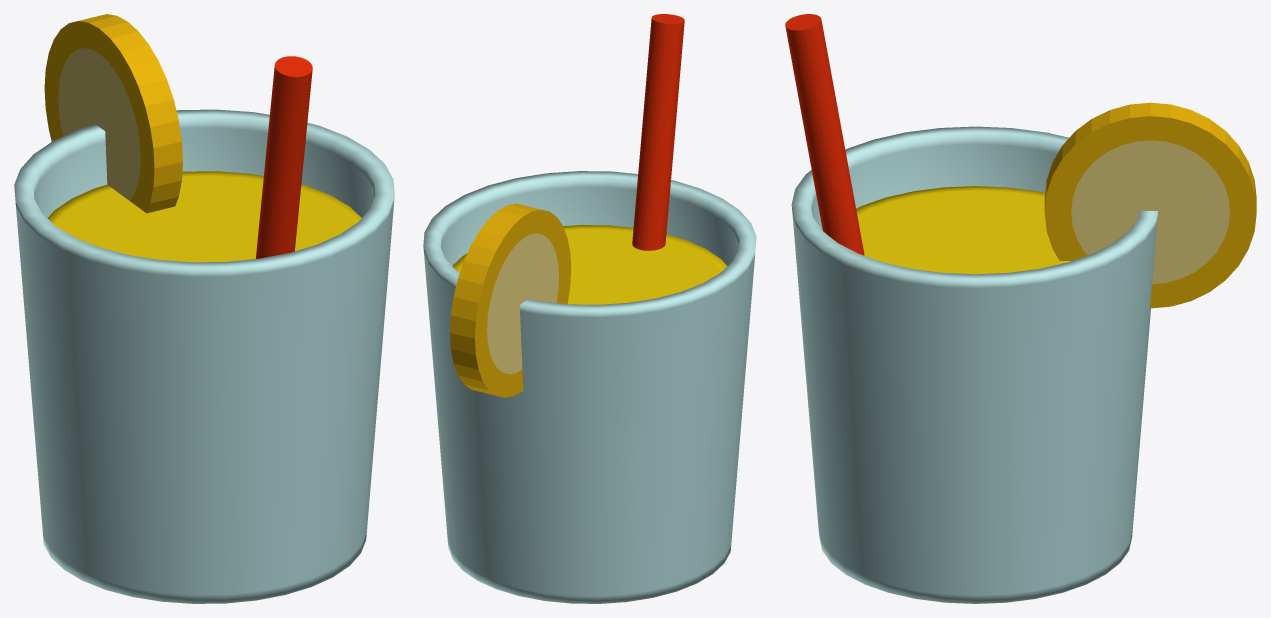
File: LemonadeGlass.fbx
3 views of the same model, side by side, from view 1: azimuth 30°, elevation 25°; view 2: azimuth 150°, elevation 25°; view 3: azimuth 270°, elevation 25° (orthographic). The views are drawn at different scales.
Parts seen in each view (by area): view 1: Glass, LemonSlice, Liquid, Straw; view 2: Glass, LemonSlice, Liquid, Straw; view 3: Glass, LemonSlice, Liquid, Straw.
Part boxes in pixels (bbox=[...]): Glass: bbox=[14, 109, 394, 603]; LemonSlice: bbox=[44, 14, 182, 213]; Liquid: bbox=[47, 171, 361, 262]; Straw: bbox=[255, 56, 312, 258]; Glass: bbox=[423, 171, 756, 603]; LemonSlice: bbox=[450, 203, 571, 397]; Liquid: bbox=[452, 225, 727, 304]; Straw: bbox=[632, 14, 684, 250]; Glass: bbox=[791, 126, 1157, 603]; LemonSlice: bbox=[1044, 102, 1256, 308]; Liquid: bbox=[856, 186, 1070, 274]; Straw: bbox=[785, 14, 864, 255].
Size of the model in its own units: 200 by 311 by 256.
